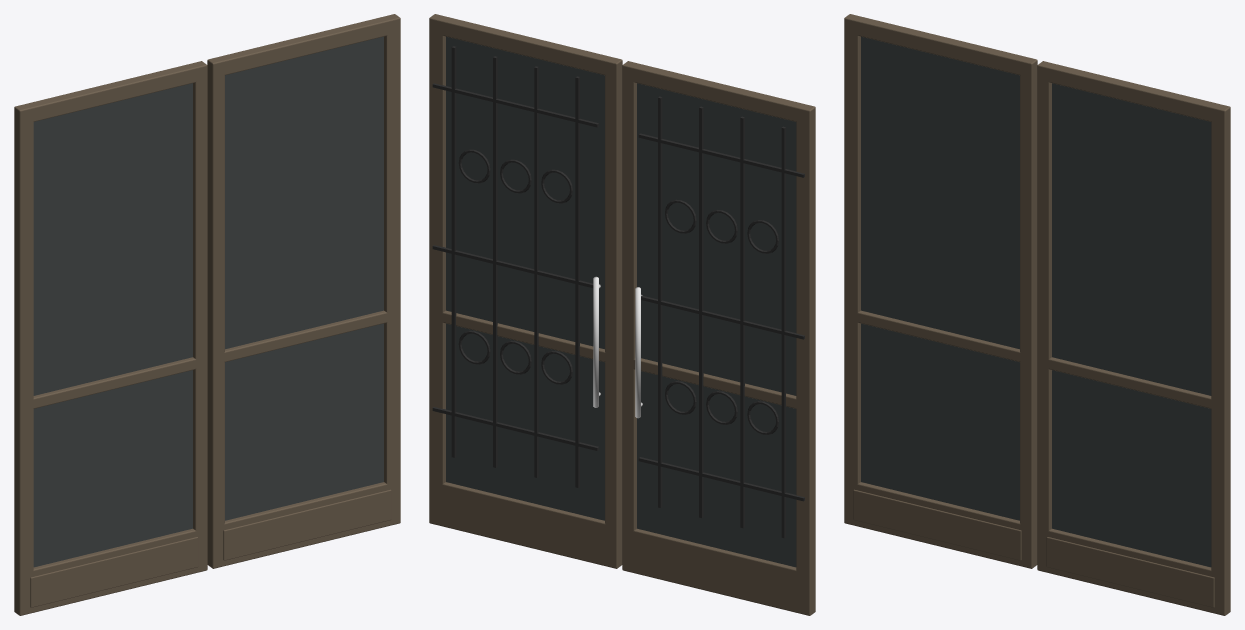
Rendered from GirisKapi.fbx.
3 views of the same model, side by side, from view 1: azimuth 30°, elevation 25°; view 2: azimuth 150°, elevation 25°; view 3: azimuth 330°, elevation 25° (orthographic).
Visible parts, largest first — view 1: KanatSag, KanatSol; view 2: KanatSag, KanatSol; view 3: KanatSag, KanatSol.
Part boxes in pixels (x1=…): KanatSag: x1=207, y1=14, x2=400, y2=568; KanatSol: x1=14, y1=61, x2=207, y2=615; KanatSag: x1=429, y1=14, x2=622, y2=568; KanatSol: x1=622, y1=61, x2=815, y2=615; KanatSag: x1=1037, y1=61, x2=1230, y2=615; KanatSol: x1=844, y1=14, x2=1037, y2=568.
Bounding box in the file's own units: 1.85 × 2.35 × 0.089.
